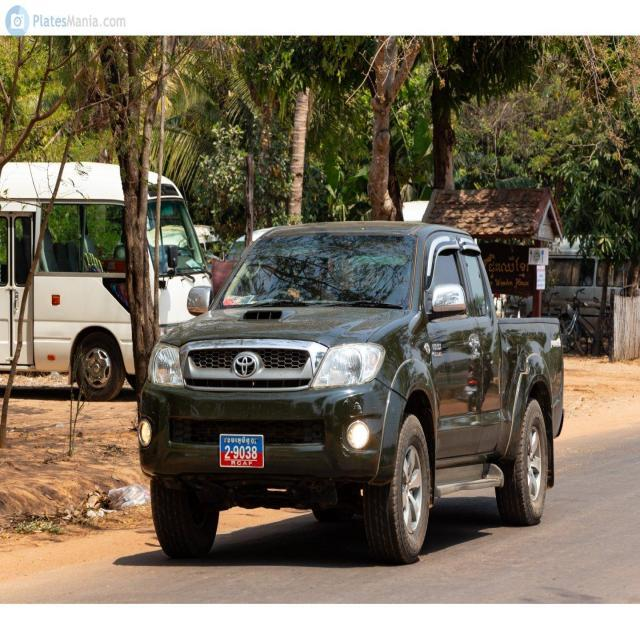RCAF: (224, 436, 250, 446)
